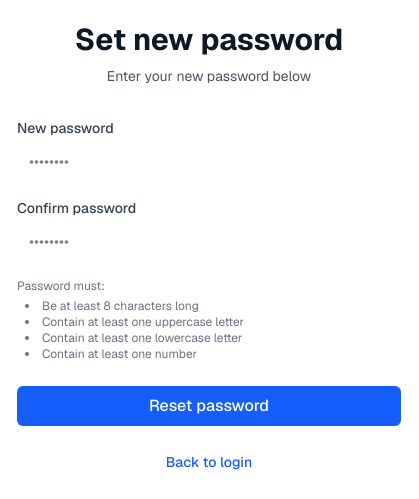
Test: ResetPasswordConfirmPage › validates password requirements
Try with weak password
Type "weak" into the password field labelled "New password". click: (209, 162)
box: left=17, top=142, right=401, bottom=182
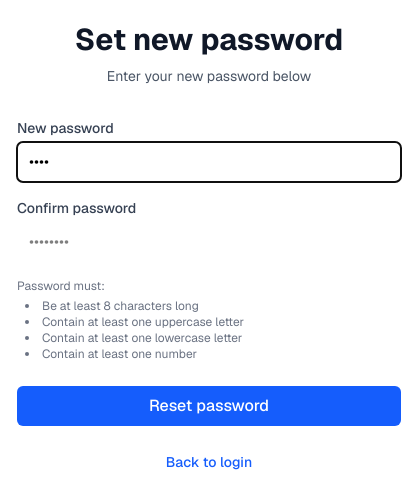
Type "weak" into the password field labelled "Confirm password". click: (209, 242)
box: left=17, top=222, right=401, bottom=262
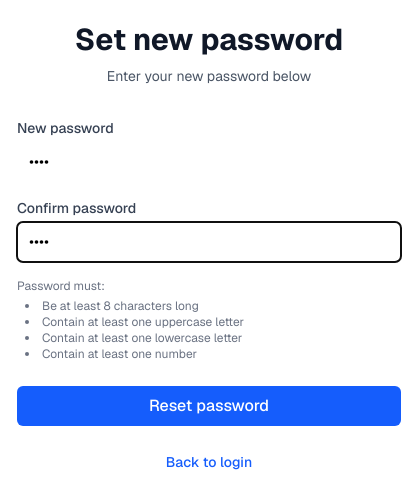
Click the button "Reset password". click: click(209, 406)
box: left=17, top=386, right=401, bottom=426
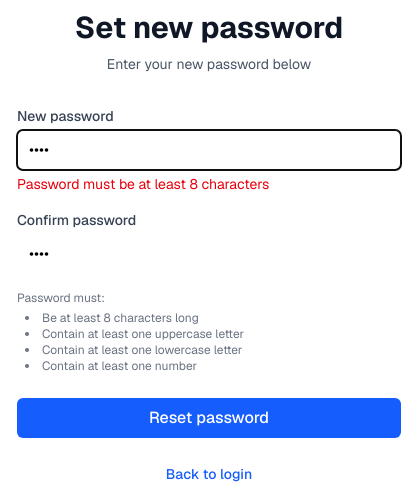
Check: the text "Password must be at least 8 characters" is shown, box left=17, top=175, right=269, bottom=193
